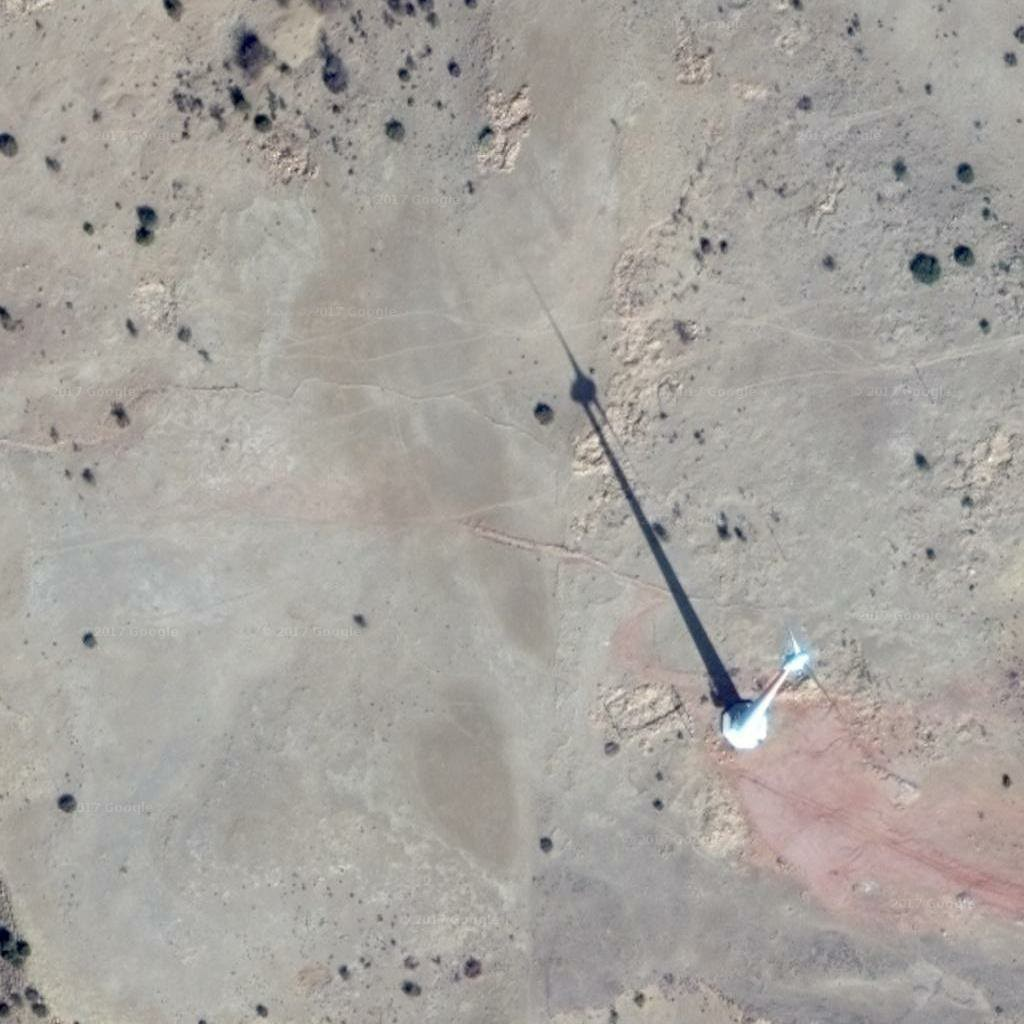Windmill: (523, 290, 746, 702)
